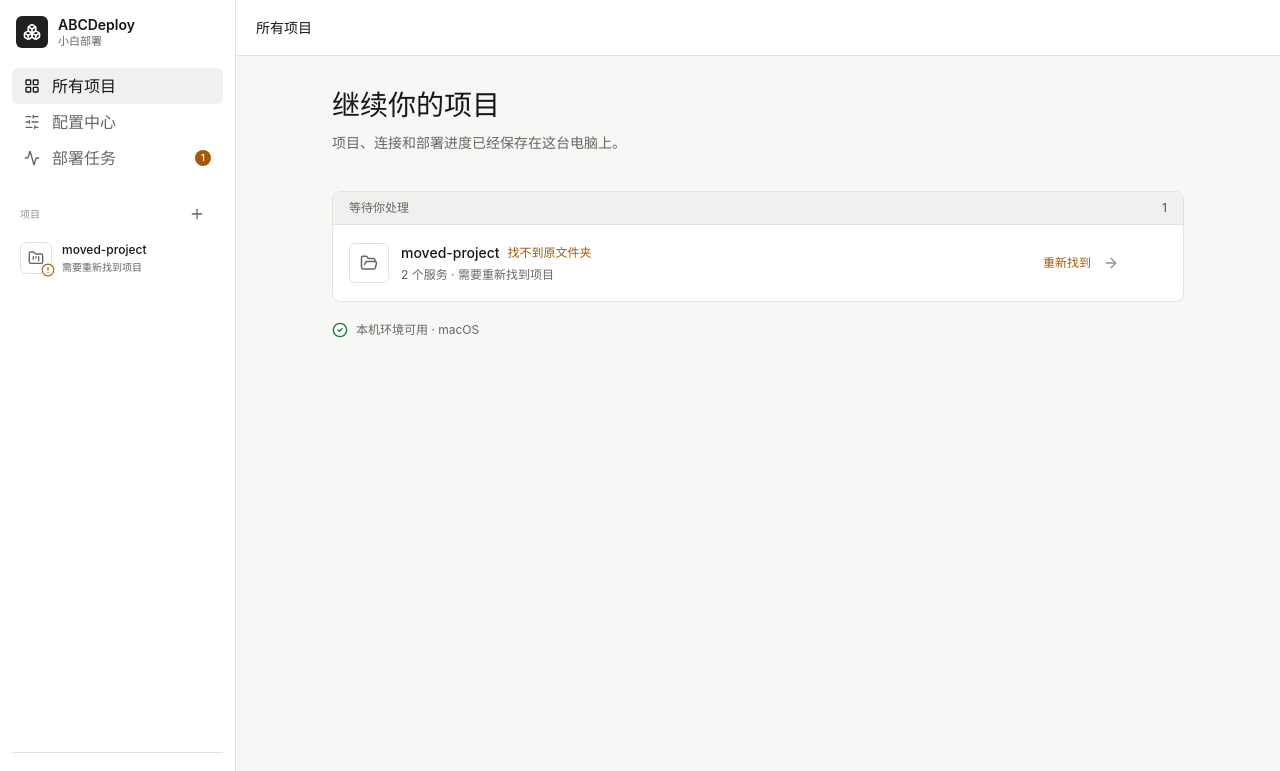
ABCDeploy 场景化主线 › 重新找到被移动的项目后保留记录并直接继续
The image size is (1280, 771).
Click the button "moved-project 找不到原文件夹 2 个服务 · 需要重新找到项目 重新找到" at (369, 263), box [349,231,1119,295]
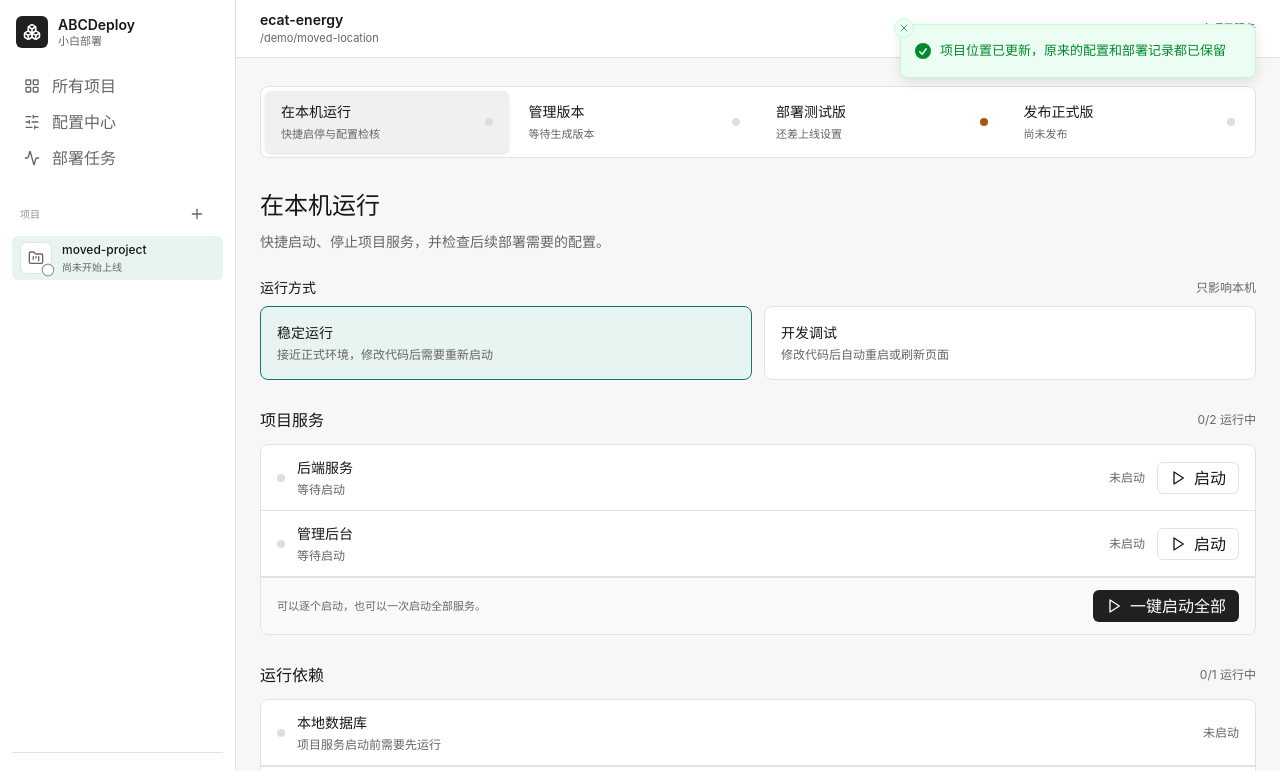
Check: the heading "在本机运行" is shown, box [260,191,380,220]
